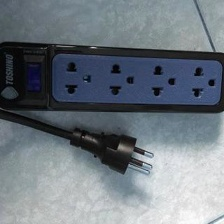three_eye_plug: (0, 38, 224, 119)
